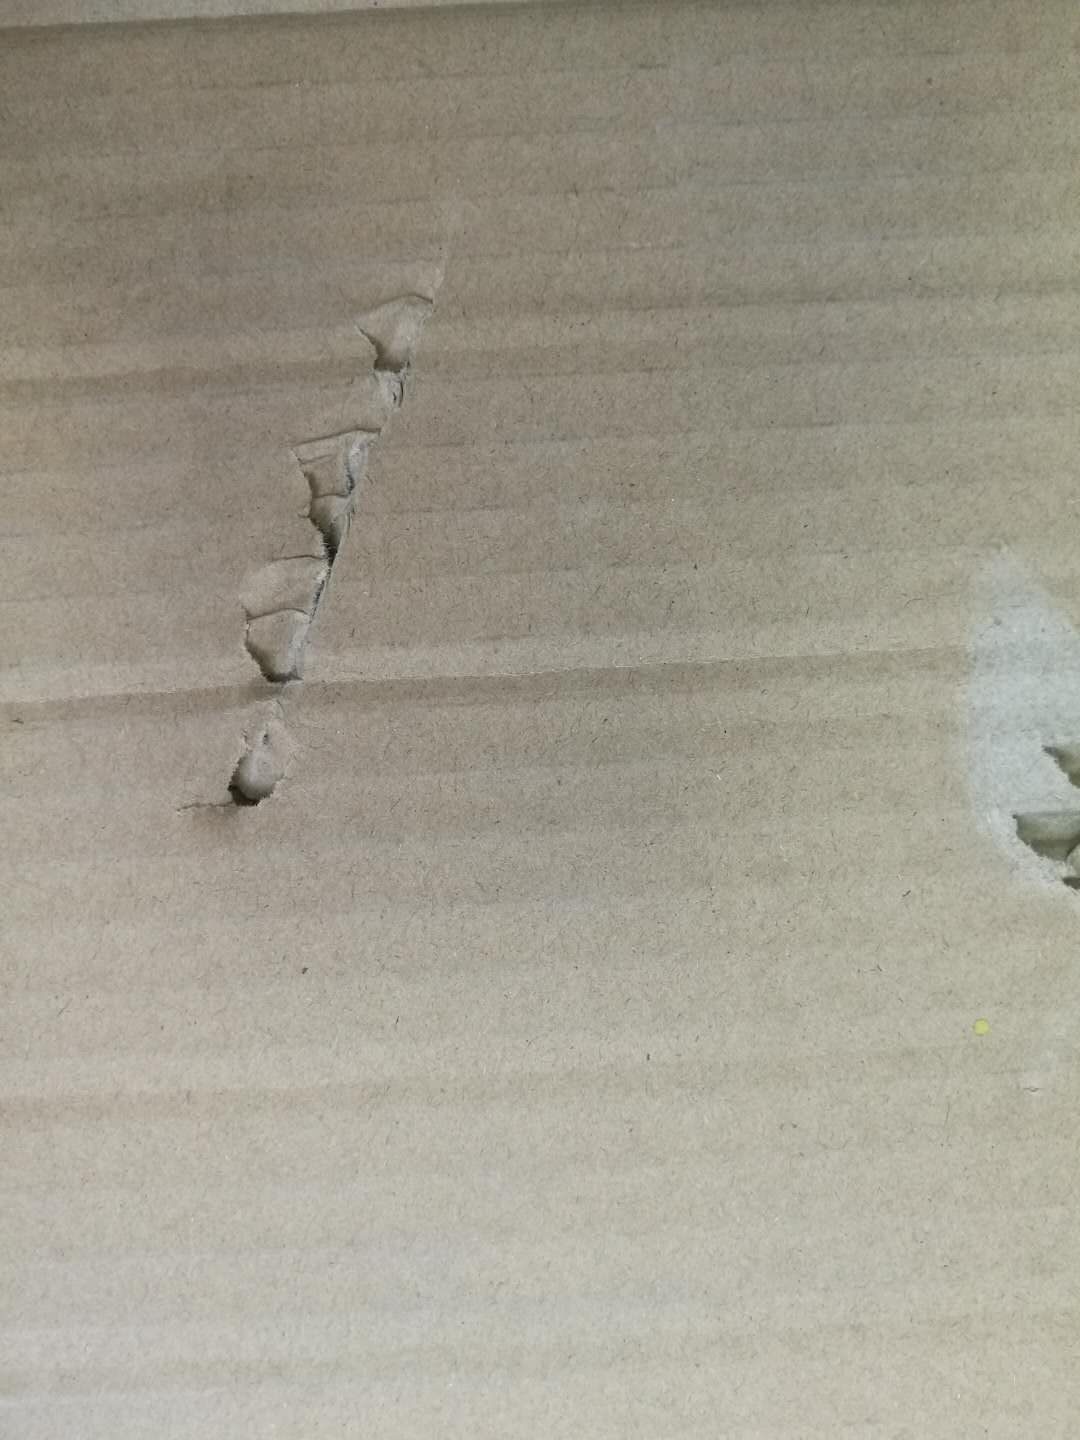defect: (151, 188, 511, 872), (2, 239, 1080, 409), (1, 594, 1071, 762), (919, 522, 1080, 910), (1, 1, 632, 73)
